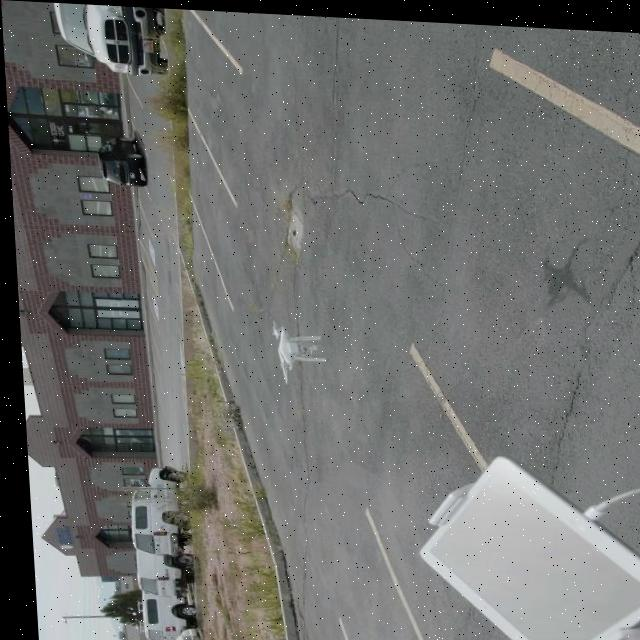drone: (264, 315, 320, 384)
